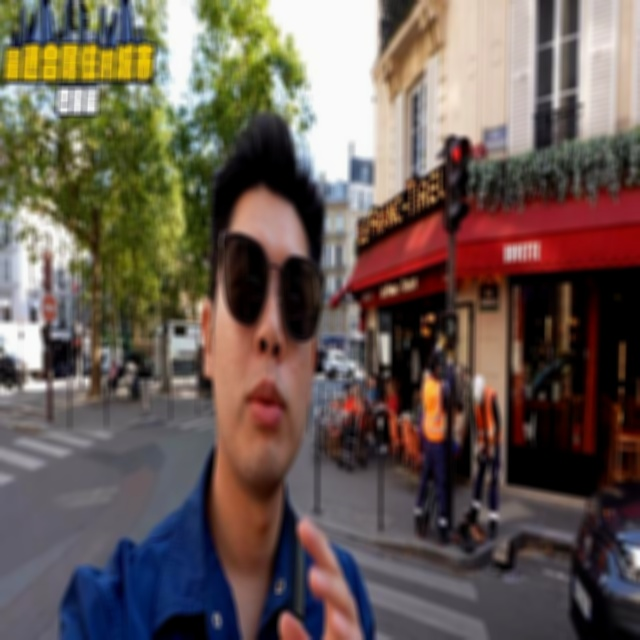Con_Casco: (472, 372, 485, 405)
Con_Chaleco: (421, 378, 444, 440)
Sin_Casco_Mascarrilla: (199, 109, 328, 489)
